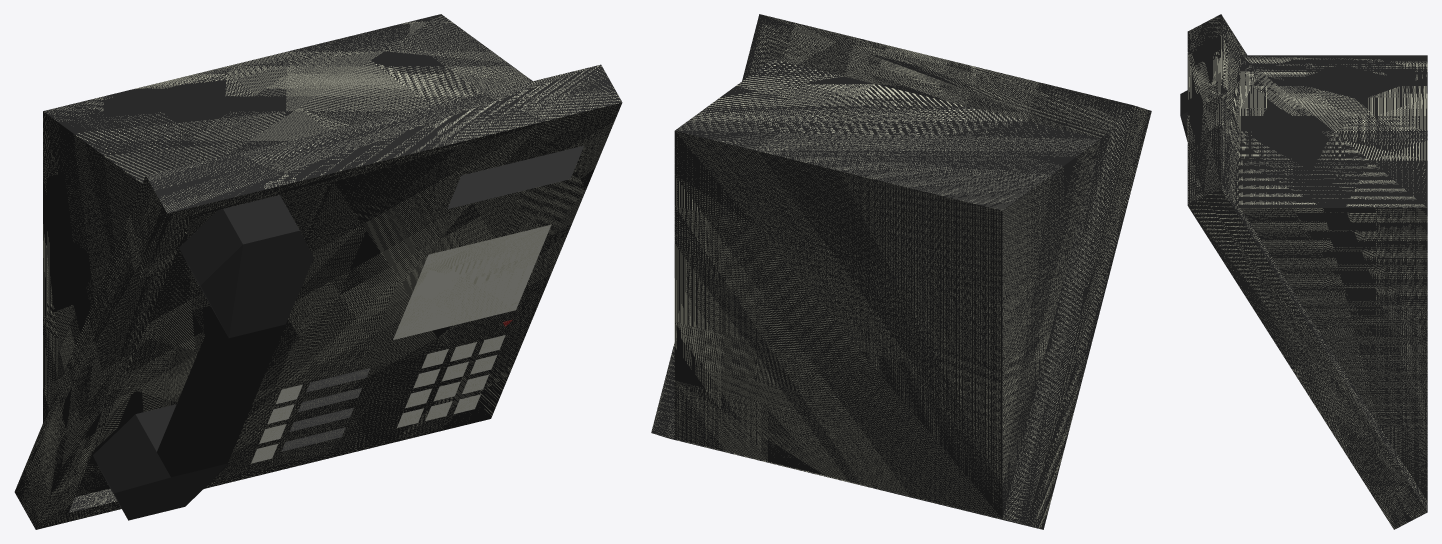
3 views of the same model, side by side, from view 1: azimuth 30°, elevation 25°; view 2: azimuth 150°, elevation 25°; view 3: azimuth 270°, elevation 25° (orthographic). The views are drawn at different scales.
Parts seen in each view (by area): view 1: black desktop telephone; view 2: black desktop telephone; view 3: black desktop telephone.
Part boxes in pixels (x1,y1,x2,y2): black desktop telephone: [14, 14, 622, 529]; black desktop telephone: [651, 14, 1151, 529]; black desktop telephone: [1180, 14, 1427, 529].
Size of the model in its own units: 8 by 7.3 by 4.79.
